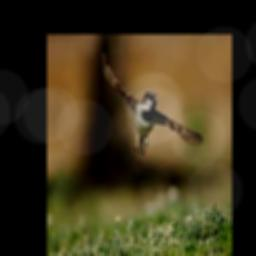Sparrow: (101, 53, 203, 155)
